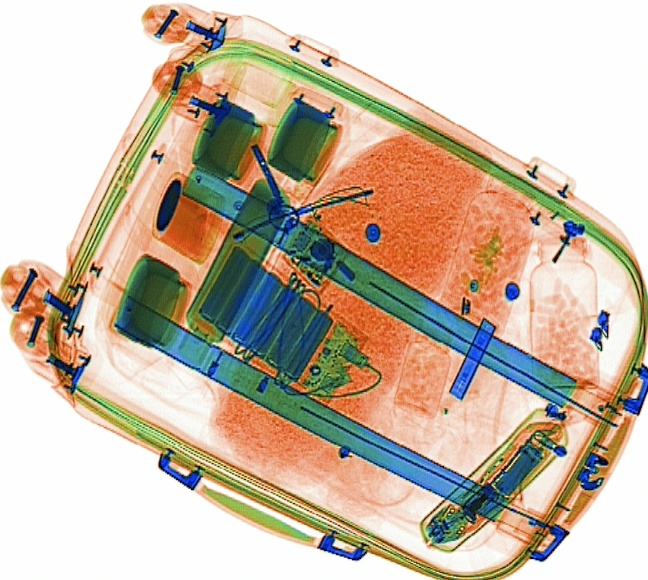powerbank: (192, 241, 368, 404)
